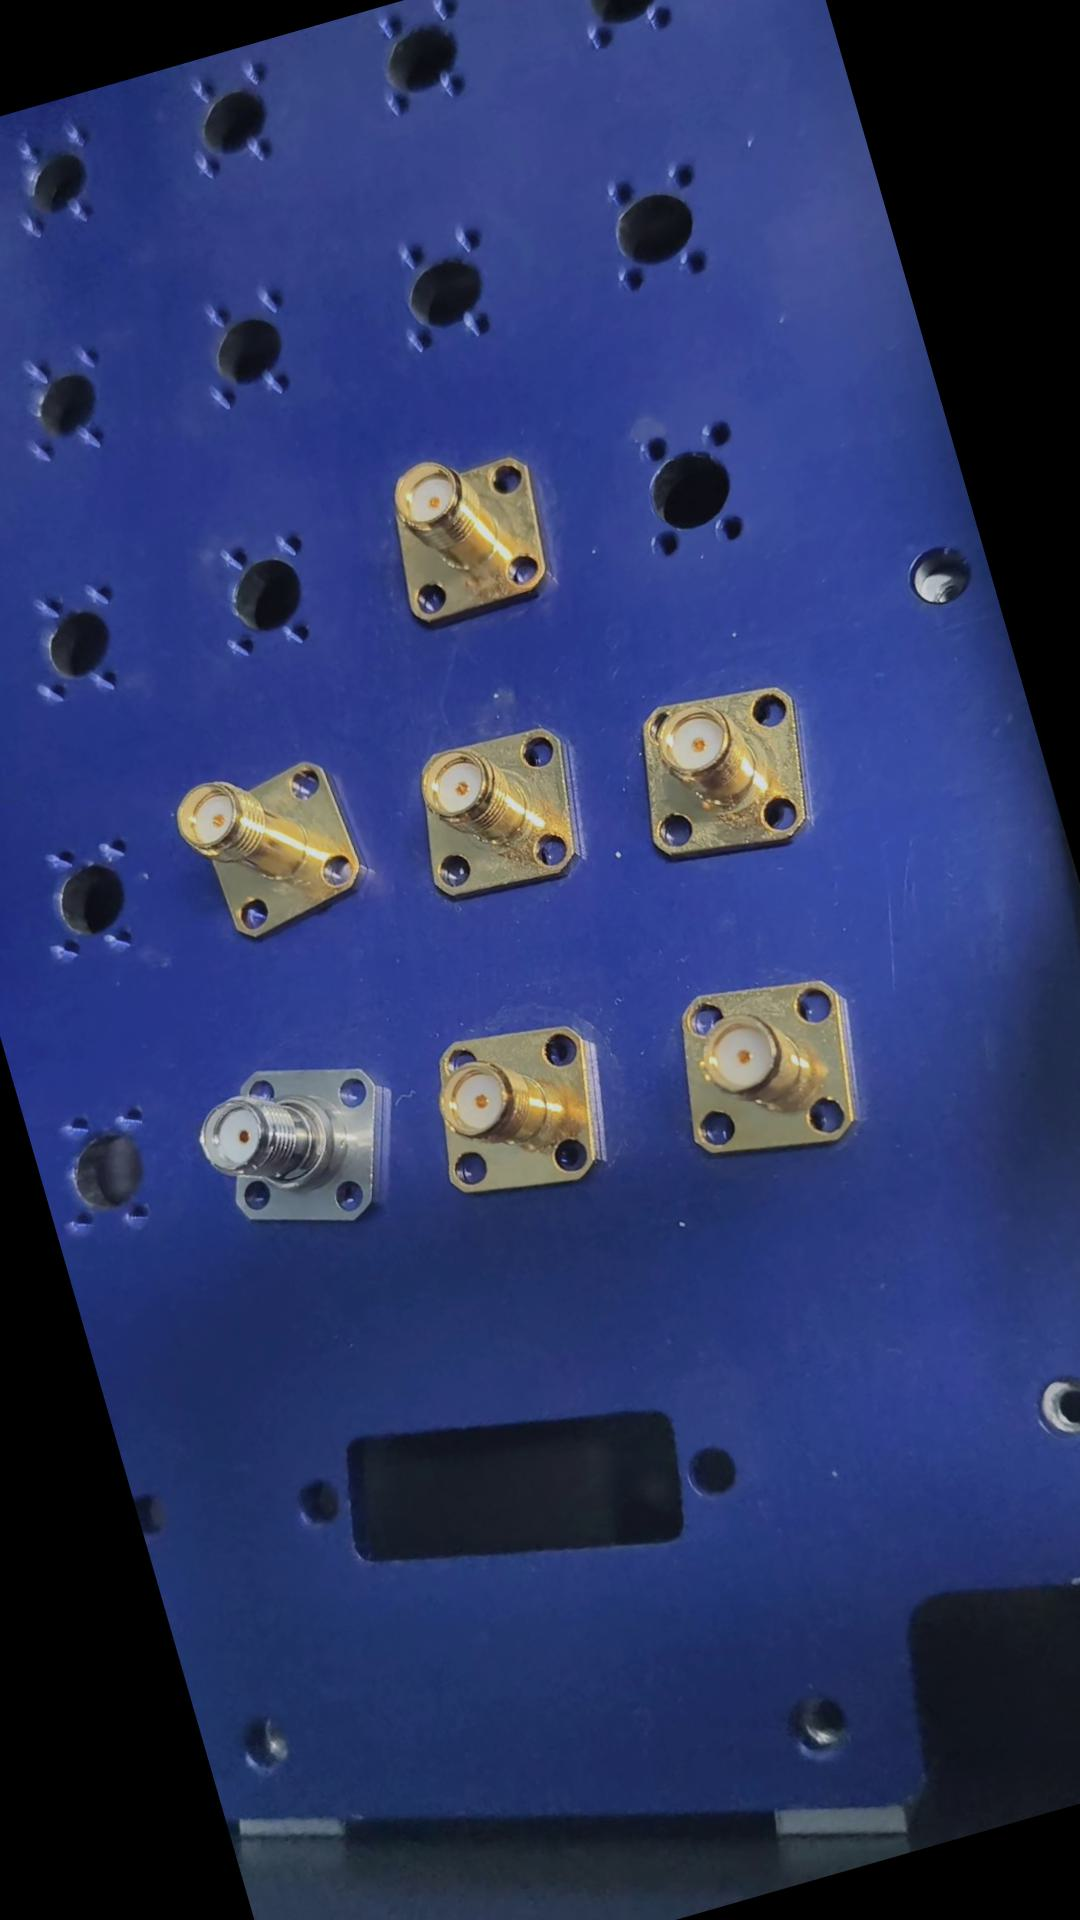SMA: (646, 955, 884, 1191), (181, 1038, 418, 1259), (406, 1000, 624, 1218), (611, 665, 829, 874), (162, 746, 376, 955), (396, 712, 604, 915), (361, 433, 568, 634)
